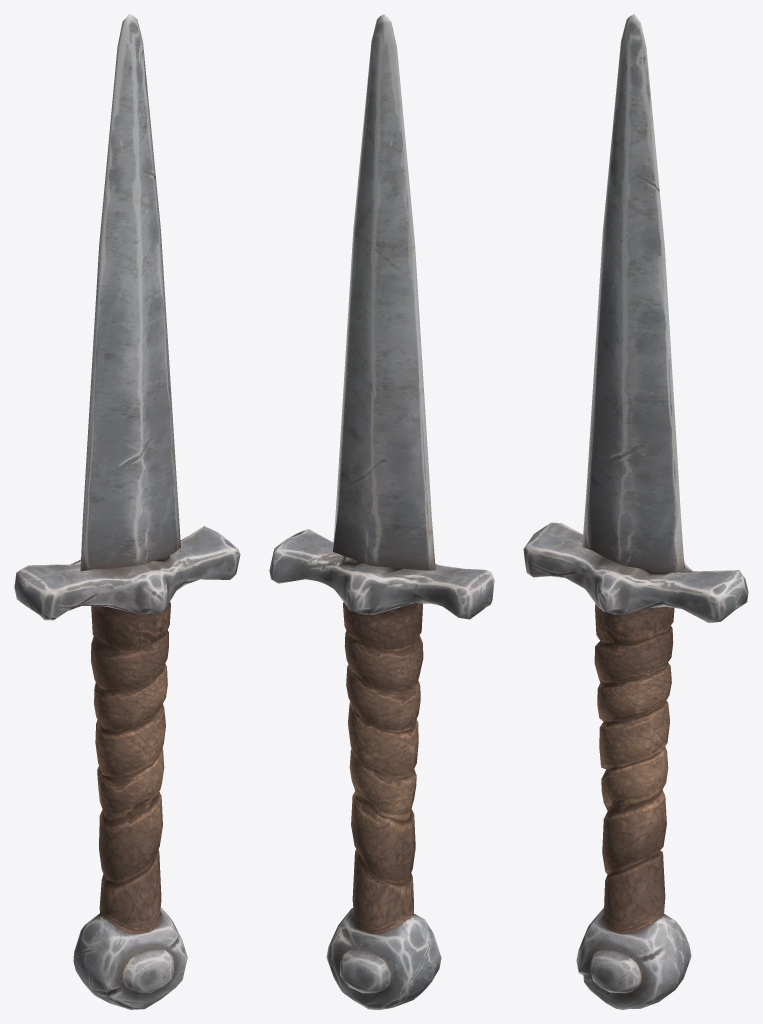
The picture shows the model from 3 angles, left to right: view 1: azimuth 30°, elevation 25°; view 2: azimuth 150°, elevation 25°; view 3: azimuth 330°, elevation 25°; orthographic projection.
Parts seen in each view (by area): view 1: SM_Dagger_Iron_1H_01_LOD0; view 2: SM_Dagger_Iron_1H_01_LOD0; view 3: SM_Dagger_Iron_1H_01_LOD0.
Part boxes in pixels (box(x1,y1,x2,y2)): SM_Dagger_Iron_1H_01_LOD0: box(14, 14, 240, 1009); SM_Dagger_Iron_1H_01_LOD0: box(269, 14, 494, 1009); SM_Dagger_Iron_1H_01_LOD0: box(523, 14, 748, 1009).
Size of the model in its own units: 0.1275 by 0.5892 by 0.0664.
1 material, 1 textured.
